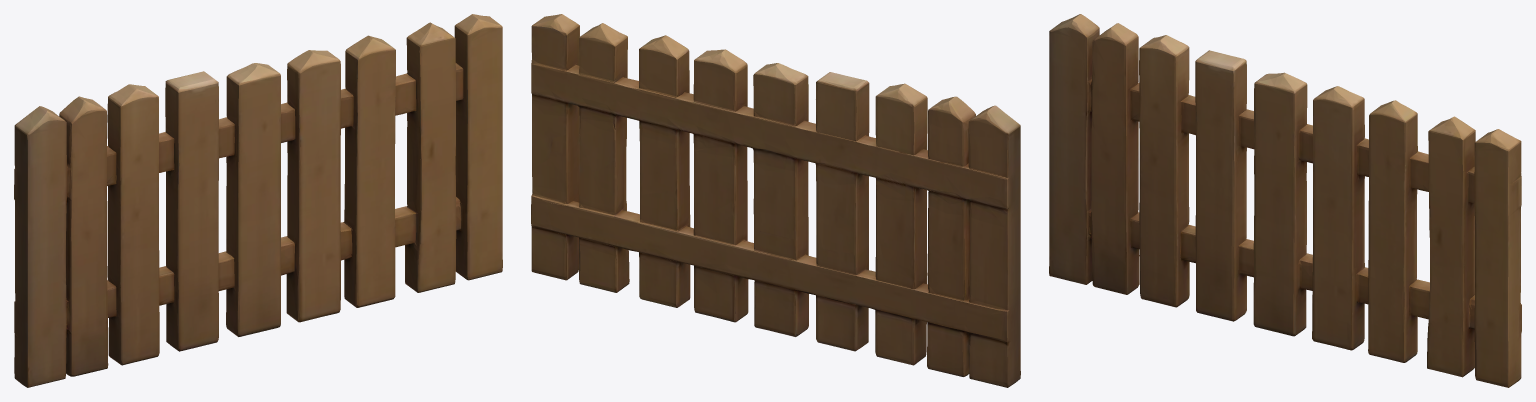
File: fence.glb
The picture shows the model from 3 angles, left to right: view 1: azimuth 30°, elevation 25°; view 2: azimuth 150°, elevation 25°; view 3: azimuth 330°, elevation 25°; orthographic projection. The views are drawn at different scales.
Parts seen in each view (by area): view 1: world; view 2: world; view 3: world.
Part boxes in pixels (box(x1,y1,x2,y2)): world: box(14, 14, 502, 387); world: box(531, 14, 1020, 387); world: box(1049, 14, 1521, 387).
Bounding box in the file's own units: 1 × 0.5453 × 0.0519.
Materials: 1 (1 with a texture image).
